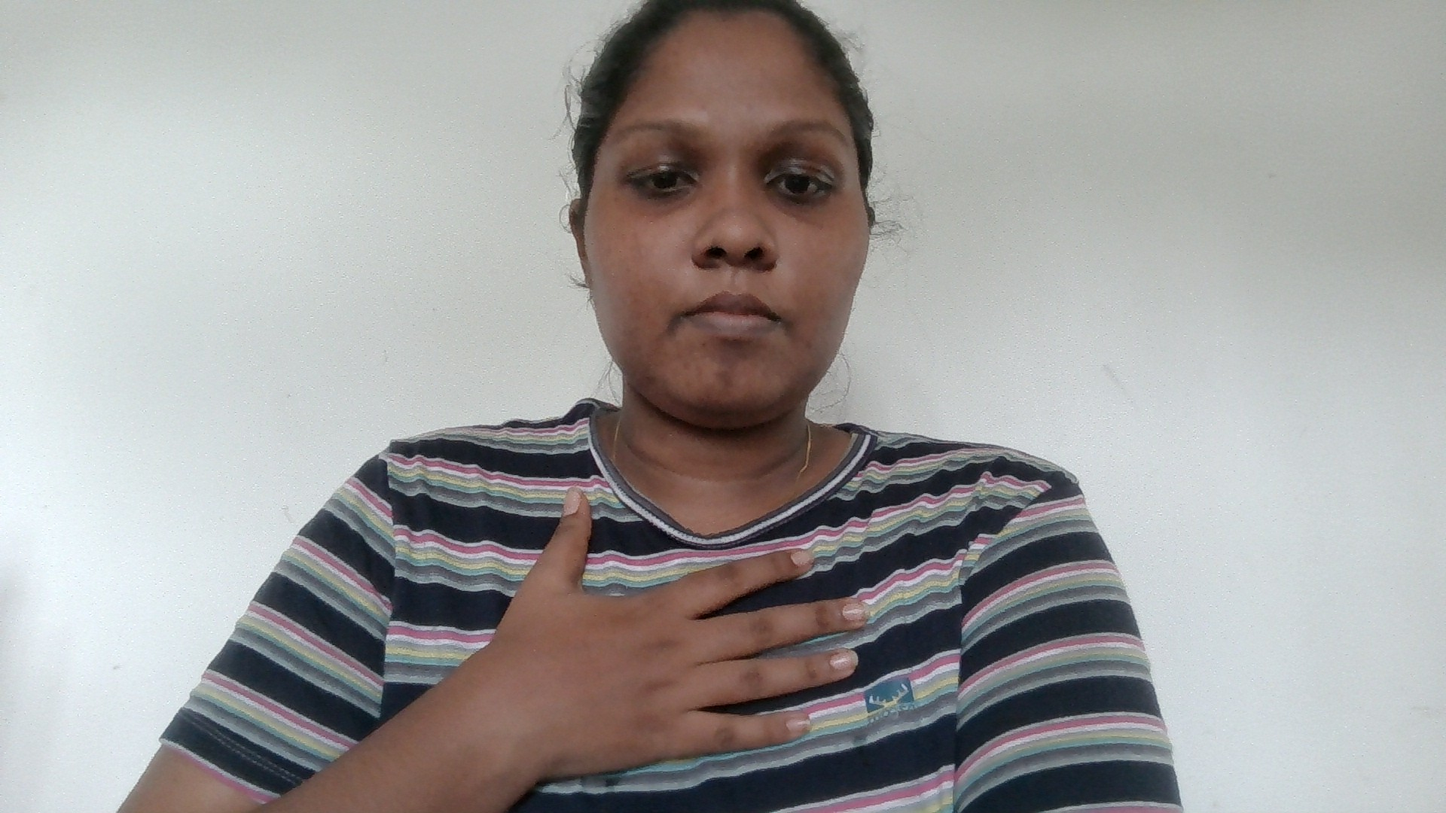Please: (499, 479, 892, 797)
